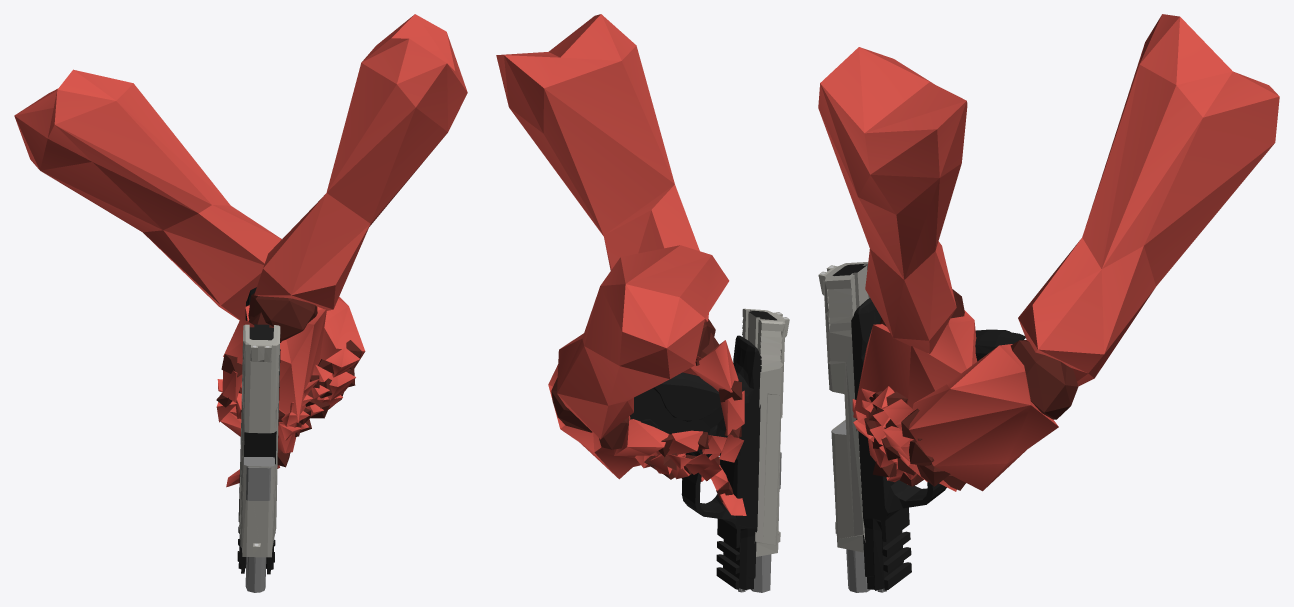
The model's file is M&P9shootExtendLowPoly.obj.
3 renders of one model, left to right at view 1: azimuth 30°, elevation 25°; view 2: azimuth 150°, elevation 25°; view 3: azimuth 270°, elevation 25°, orthographic. The views are drawn at different scales.
Visible parts, largest first — view 1: Beta_Surface, slide_平面.002, Beta_Joints, barrel_円.001, body_平面; view 2: Beta_Surface, body_平面, slide_平面.002, Beta_Joints, barrel_円.001; view 3: Beta_Surface, body_平面, slide_平面.002, Beta_Joints, barrel_円.001.
Part boxes in pixels (x1,y1,x2,y2): Beta_Surface: (14,14,467,487); slide_平面.002: (239,324,280,557); Beta_Joints: (216,292,362,467); barrel_円.001: (243,457,274,592); body_平面: (237,287,280,574); Beta_Surface: (496,14,746,515); body_平面: (630,335,761,590); slide_平面.002: (742,308,789,556); Beta_Joints: (551,318,742,502); barrel_円.001: (751,452,781,592); Beta_Surface: (818,14,1279,491); body_平面: (851,298,1025,590); slide_平面.002: (818,262,869,552); Beta_Joints: (864,289,1078,490); barrel_円.001: (831,421,870,592).
Size of the model in its own units: 46.82 by 74.61 by 49.25.
